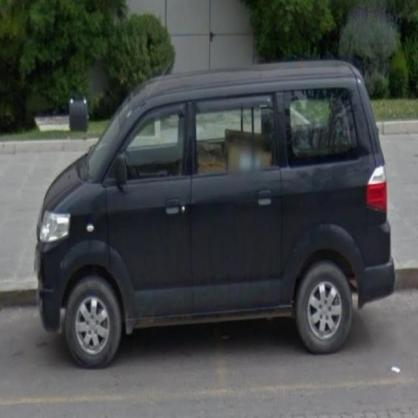car: (35, 60, 398, 373)
